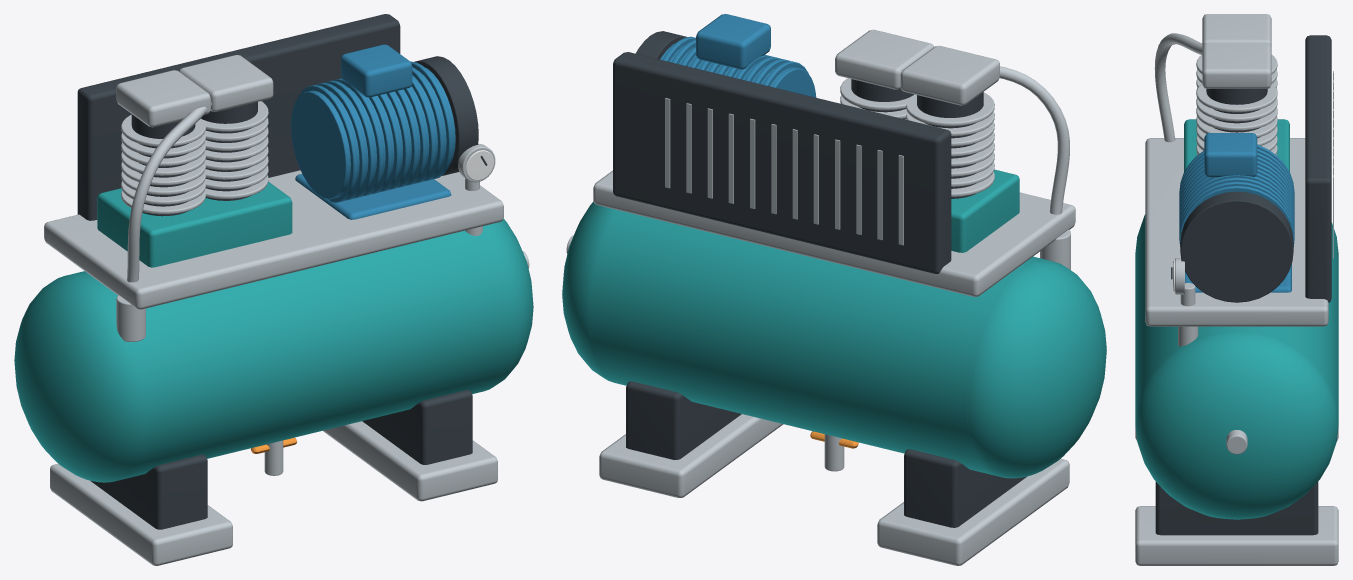
The model's file is compressor.glb.
The picture shows the model from 3 angles, left to right: view 1: azimuth 30°, elevation 25°; view 2: azimuth 150°, elevation 25°; view 3: azimuth 270°, elevation 25°; orthographic projection. The views are drawn at different scales.
Parts seen in each view (by area): view 1: Receiver shell, Receiver end left, Compressor deck, Belt enclosure, Compressor crankcase, Motor casing.001, Anchored foot, Anchored foot.001, Receiver support, Receiver support.001, Receiver end right, Cylinder head (+30 smaller); view 2: Receiver shell, Belt enclosure, Receiver end left, Compressor deck, Anchored foot, Anchored foot.001, Receiver support, Receiver support.001, Receiver end right, Cylinder head, Cylinder head.001, Compressor crankcase (+10 smaller); view 3: Receiver end right, Compressor deck, Fan cover.001, Anchored foot.001, Belt enclosure, Receiver shell, Receiver support.001, Cylinder head.001, Terminal box.001, Cylinder head, Discharge tube, Compressor crankcase (+23 smaller).
Part boxes in pixels (x1,y1,x2,y2): Receiver shell: (75, 230, 506, 478); Receiver end left: (14, 273, 147, 482); Compressor deck: (44, 170, 503, 309); Belt enclosure: (77, 14, 400, 220); Compressor crankcase: (97, 182, 292, 267); Motor casing.001: (291, 67, 455, 199); Anchored foot: (50, 463, 232, 565); Anchored foot.001: (322, 421, 497, 501); Receiver support: (90, 454, 207, 529); Receiver support.001: (362, 390, 472, 464); Receiver end right: (483, 218, 533, 391); Cylinder head: (116, 70, 210, 127); Receiver shell: (590, 210, 1043, 474); Belt enclosure: (613, 52, 951, 273); Receiver end left: (967, 259, 1106, 478); Compressor deck: (593, 170, 1075, 296); Anchored foot: (877, 458, 1069, 565); Anchored foot.001: (599, 414, 783, 497); Receiver support: (904, 449, 1027, 527); Receiver support.001: (626, 381, 741, 459); Receiver end right: (562, 201, 617, 382); Cylinder head: (900, 45, 999, 105); Cylinder head.001: (835, 29, 933, 89); Compressor crankcase: (951, 169, 1019, 252); Receiver end right: (1135, 331, 1338, 519); Compressor deck: (1145, 138, 1328, 326); Fan cover.001: (1180, 191, 1293, 302); Anchored foot.001: (1135, 506, 1338, 565); Belt enclosure: (1305, 35, 1331, 302); Receiver shell: (1135, 217, 1338, 420); Receiver support.001: (1155, 481, 1318, 535); Cylinder head.001: (1202, 43, 1271, 88); Terminal box.001: (1204, 133, 1257, 177); Cylinder head: (1202, 14, 1271, 47); Discharge tube: (1154, 33, 1202, 142); Compressor crankcase: (1184, 119, 1289, 171).
Size of the model in its own units: 1.4 by 1.17 by 0.5263.
